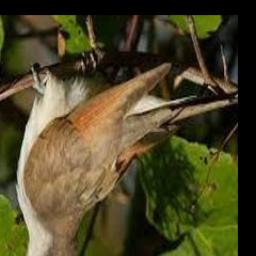Cuckoo: (4, 64, 195, 256)
